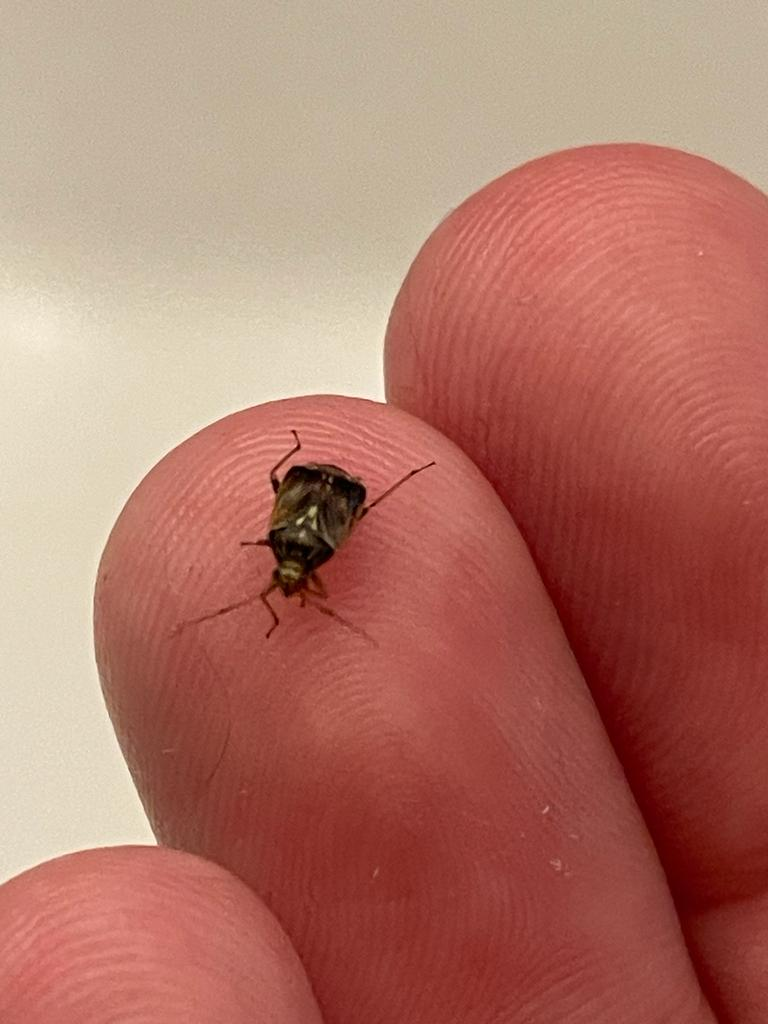plant_bugs: (137, 367, 490, 715)
